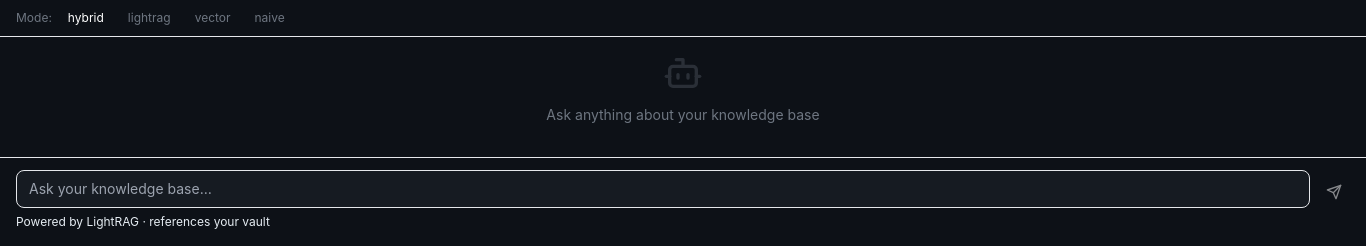
Test: AiChat › Send button is enabled when input has text
Type "What is emptiness?" into the text box with placeholder "Ask your knowledge base…" at (663, 189), box [16,170,1310,208]
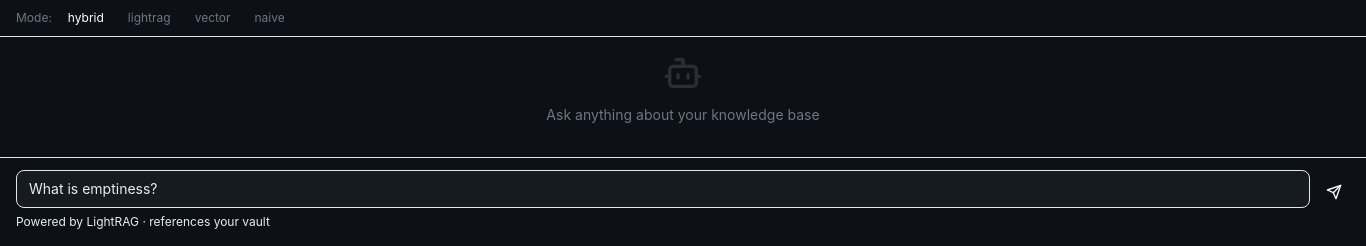
Expected: the button named "send" is enabled, [1318,176,1350,208]
